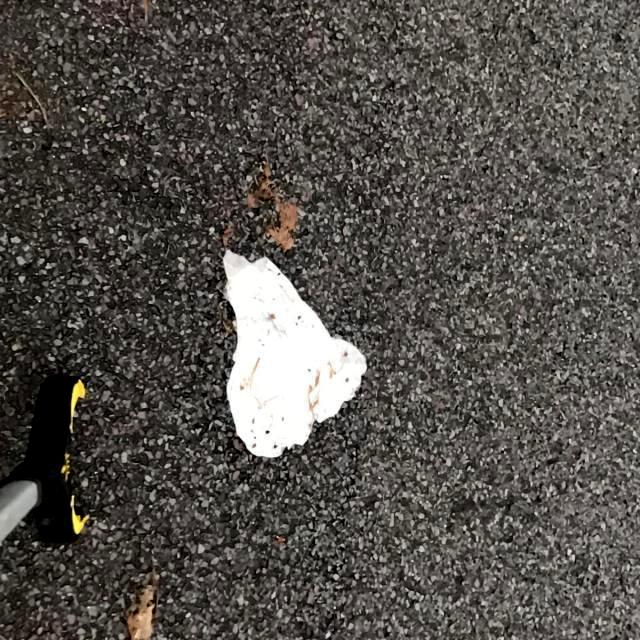Paper: (218, 245, 368, 460)
